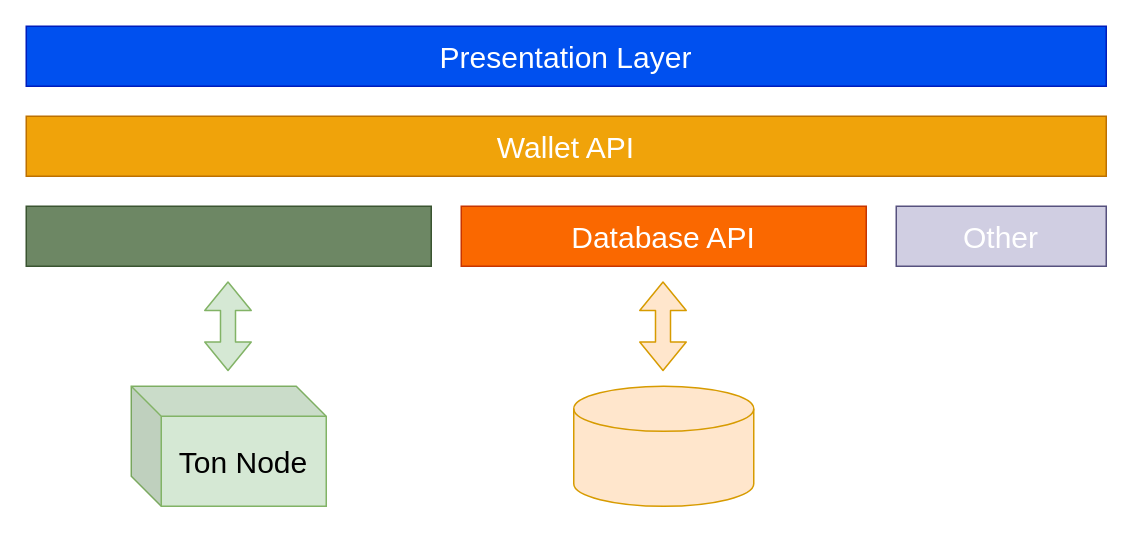
This 1133x533 diagram has some shape labels left out. Here are the shapes that lost their labels. From the top down, the centre of each, then its label:
At point 228,235: "Network API".
At point 663,445: "Index DB".
